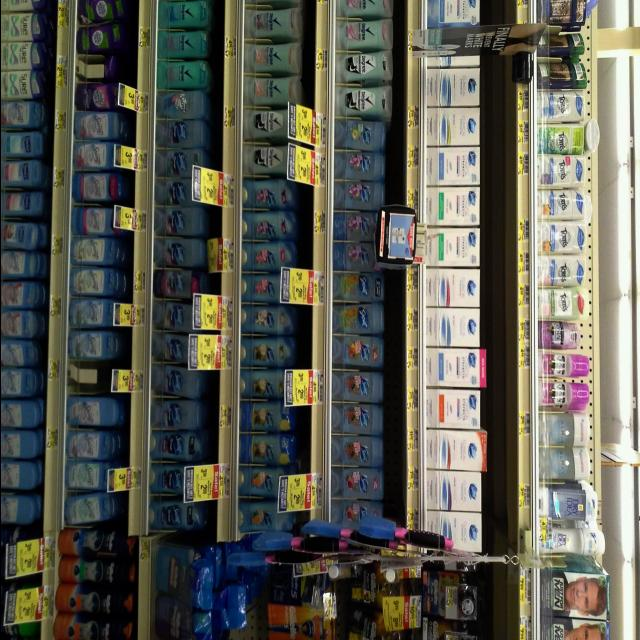empty_space: (68, 359, 108, 393)
